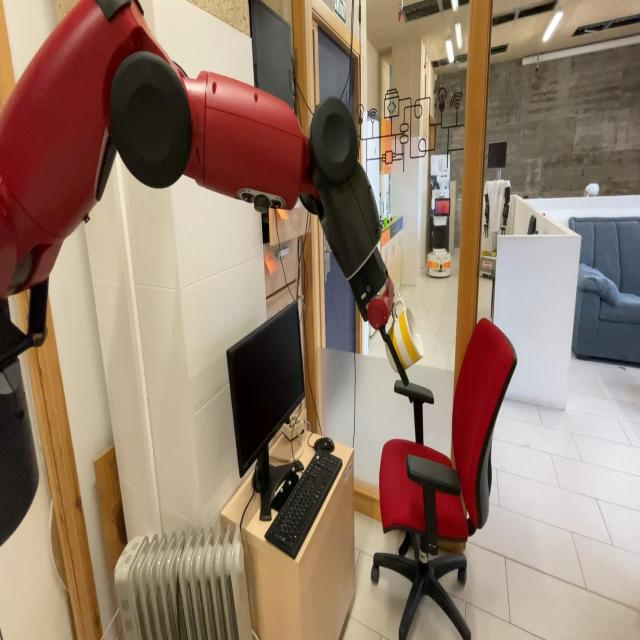cup: (384, 301, 425, 374)
